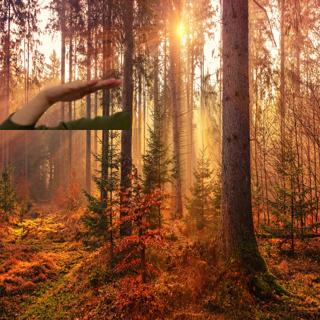WAIT: (41, 73, 124, 105)
